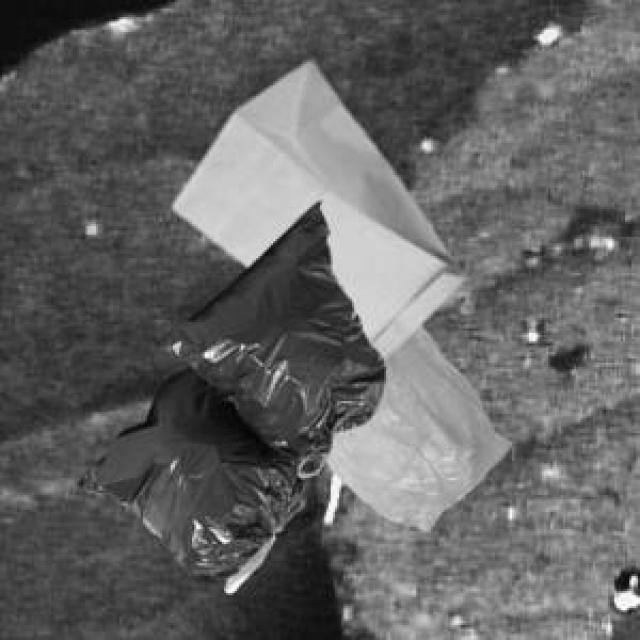miscellaneous trash: (75, 198, 382, 589)
paper: (169, 58, 461, 354)
